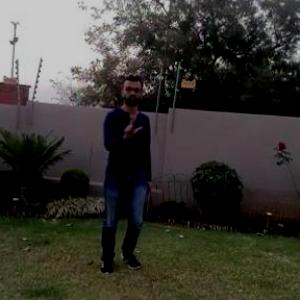land_hand: (117, 116, 144, 138)
